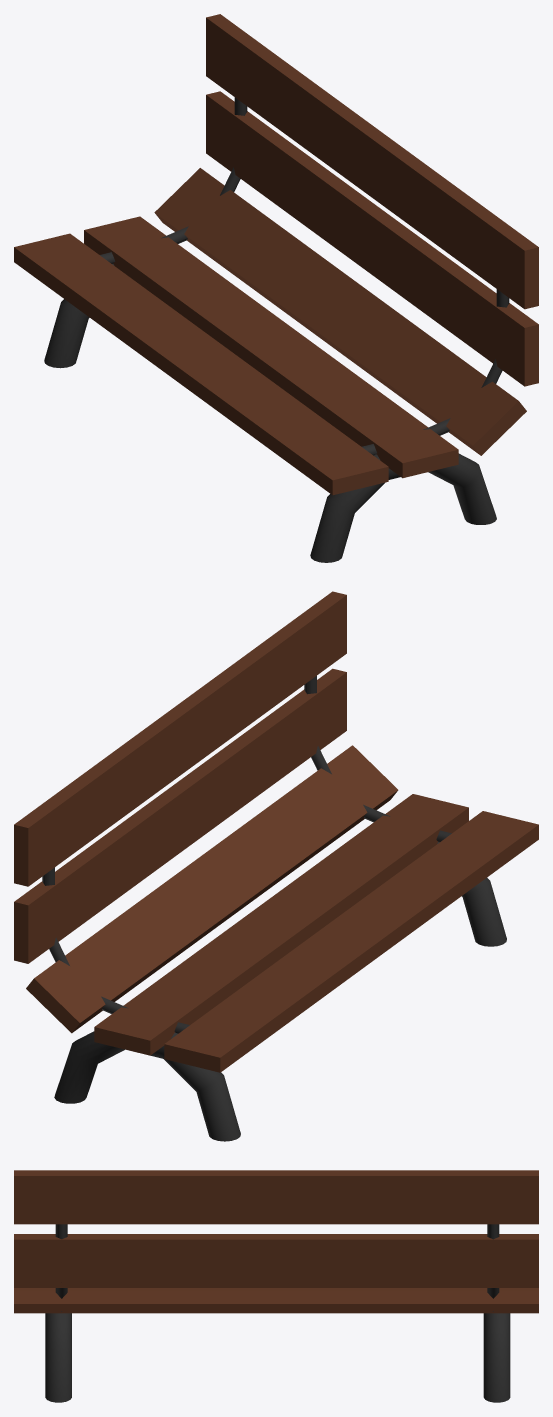
File: banc.FBX
The picture shows the model from 3 angles, top to bottom: view 1: azimuth 30°, elevation 25°; view 2: azimuth 150°, elevation 25°; view 3: azimuth 270°, elevation 25°; orthographic projection. The views are drawn at different scales.
Parts seen in each view (by area): view 1: Box021, Cylinder006; view 2: Box021, Cylinder006; view 3: Box021, Cylinder006.
Boxes of the visible parts, x1,y1,x2,y2 form: Box021: (14, 14, 538, 495); Cylinder006: (44, 97, 509, 562); Box021: (14, 591, 538, 1072); Cylinder006: (42, 676, 506, 1141); Box021: (14, 1170, 538, 1313); Cylinder006: (45, 1224, 510, 1402).
Bounding box in the file's own units: 89.61 × 117 × 239.
